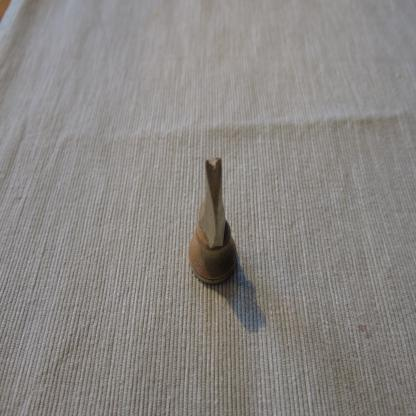white-knight: (187, 155, 238, 287)
